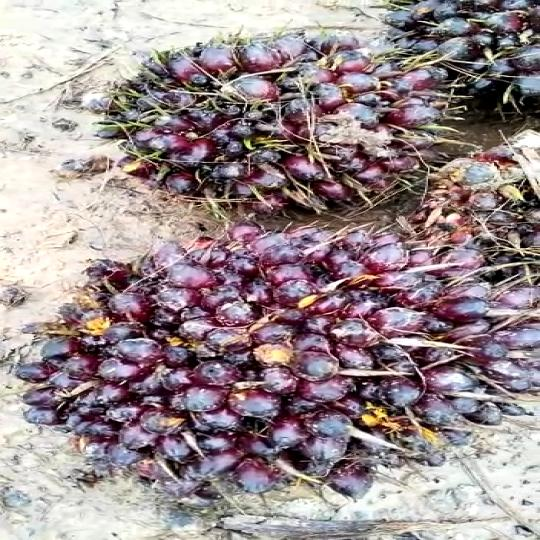kurang masak: (33, 221, 538, 500), (112, 24, 450, 226)
